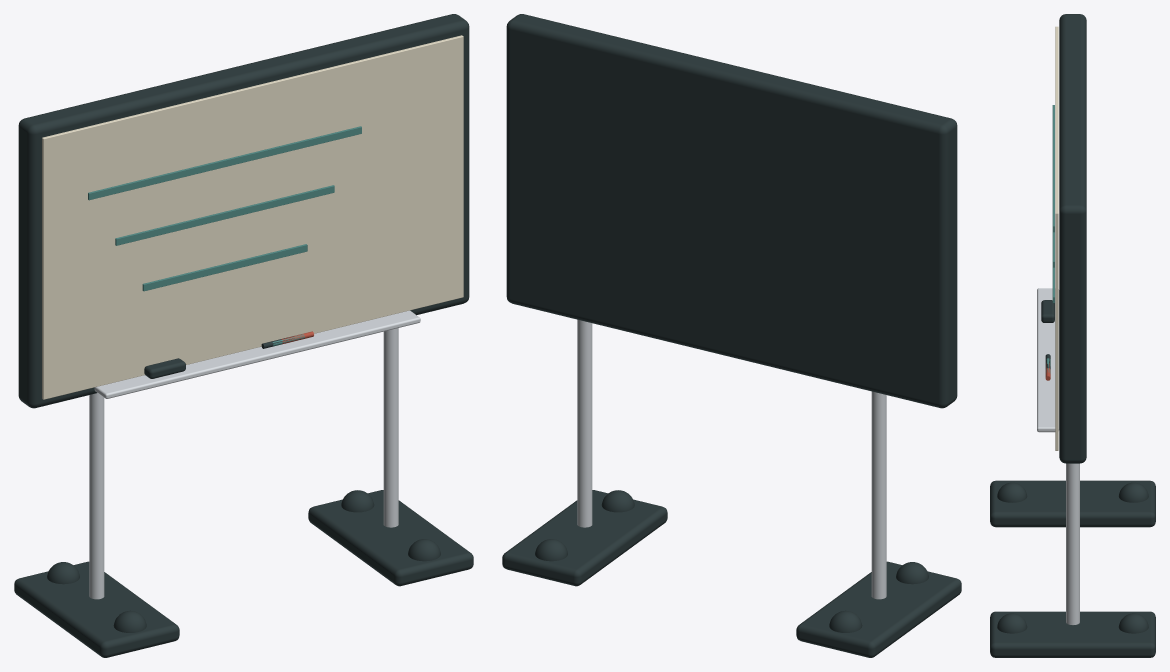
Rendered from mobile-board.glb.
3 views of the same model, side by side, from view 1: azimuth 30°, elevation 25°; view 2: azimuth 150°, elevation 25°; view 3: azimuth 270°, elevation 25° (orthographic). The views are drawn at different scales.
Parts seen in each view (by area): view 1: mobile-board; view 2: mobile-board; view 3: mobile-board.
Part boxes in pixels (<box>): mobile-board: <box>14,14,473,657</box>; mobile-board: <box>502,14,961,657</box>; mobile-board: <box>990,14,1155,657</box>.
Size of the model in its own units: 1.68 by 1.86 by 0.6.
